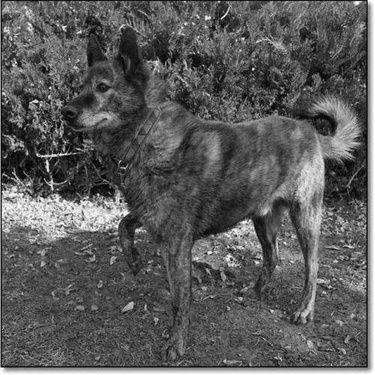dog: (59, 6, 359, 363)
